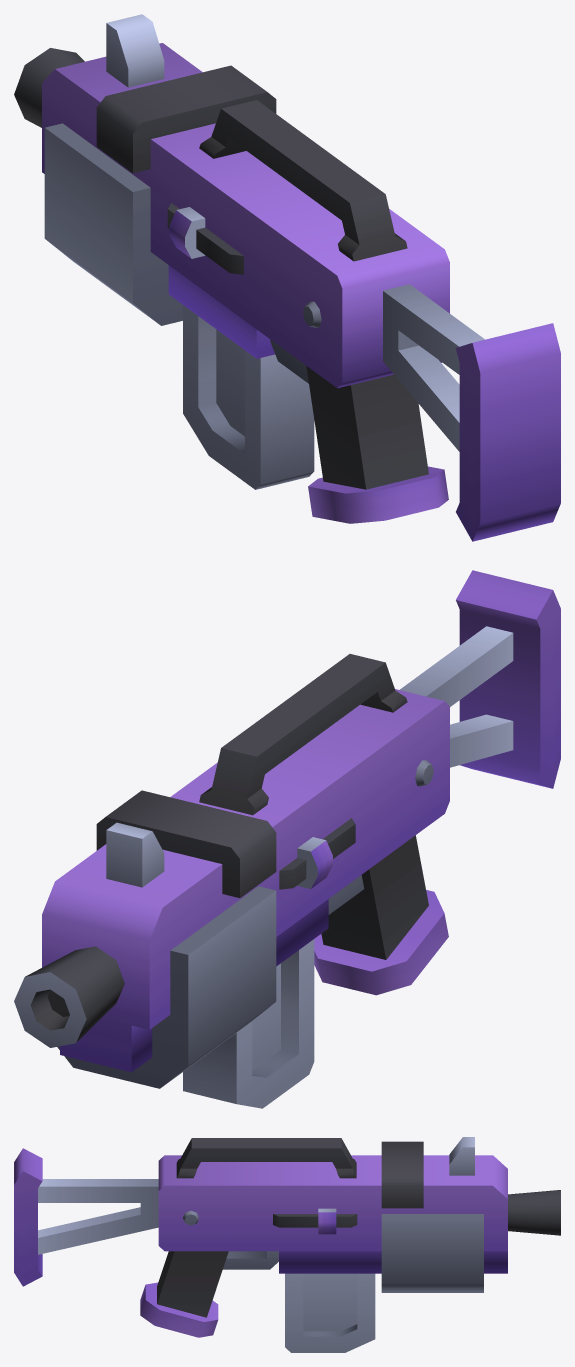
File: blaster-d.glb
The picture shows the model from 3 angles, top to bottom: view 1: azimuth 30°, elevation 25°; view 2: azimuth 150°, elevation 25°; view 3: azimuth 270°, elevation 25°; orthographic projection. The views are drawn at different scales.
Parts seen in each view (by area): view 1: blaster-d, magazine; view 2: blaster-d, magazine; view 3: blaster-d, magazine.
Boxes of the visible parts, x1,y1,x2,y2 form: blaster-d: (14, 14, 560, 541); magazine: (183, 305, 314, 489); blaster-d: (14, 570, 560, 1088); magazine: (183, 939, 314, 1108); blaster-d: (14, 1137, 560, 1337); magazine: (285, 1273, 375, 1352).
Size of the model in its own units: 0.165 by 0.3719 by 0.9079.
Materials: 1 (1 with a texture image).
